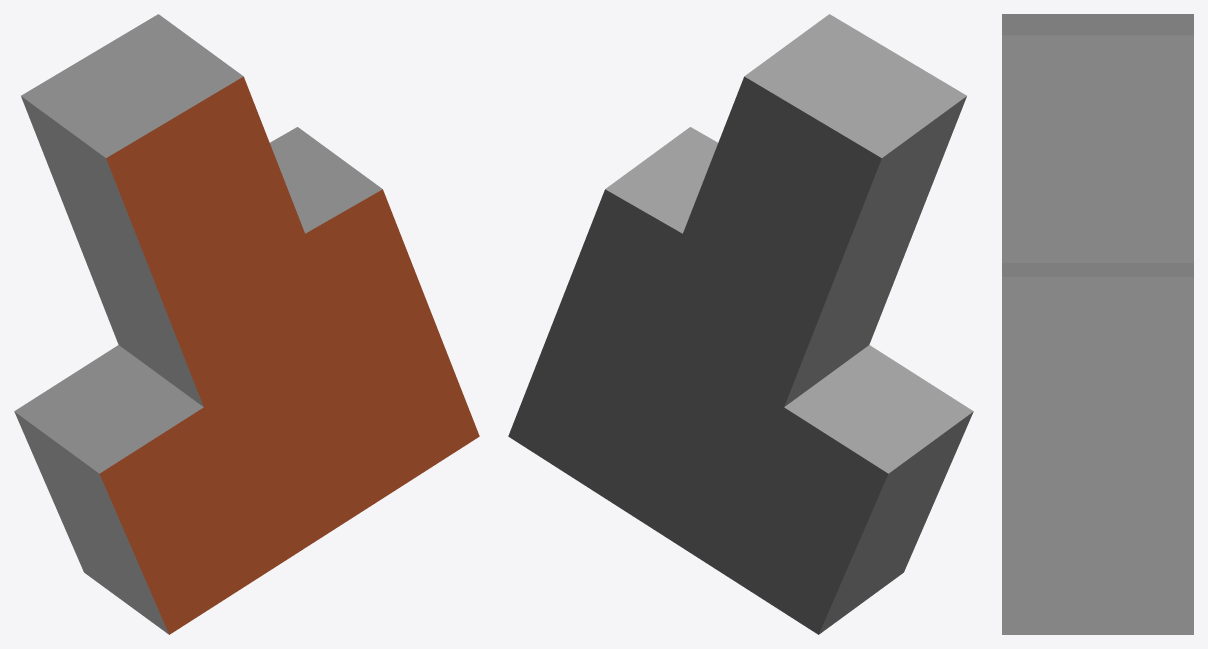
File: construction_4653_assumed_A_Casa_h6m.obj
3 renders of one model, left to right at view 1: azimuth 30°, elevation 25°; view 2: azimuth 150°, elevation 25°; view 3: azimuth 270°, elevation 25°, orthographic. The views are drawn at different scales.
Parts seen in each view (by area): view 1: construction_4653_assumed_A_Casa; view 2: construction_4653_assumed_A_Casa; view 3: construction_4653_assumed_A_Casa.
Boxes of the visible parts, <box> form: construction_4653_assumed_A_Casa: <box>14,14,479,634</box>; construction_4653_assumed_A_Casa: <box>508,14,973,634</box>; construction_4653_assumed_A_Casa: <box>1002,14,1193,634</box>.
Size of the model in its own units: 15.45 by 20.97 by 6.
